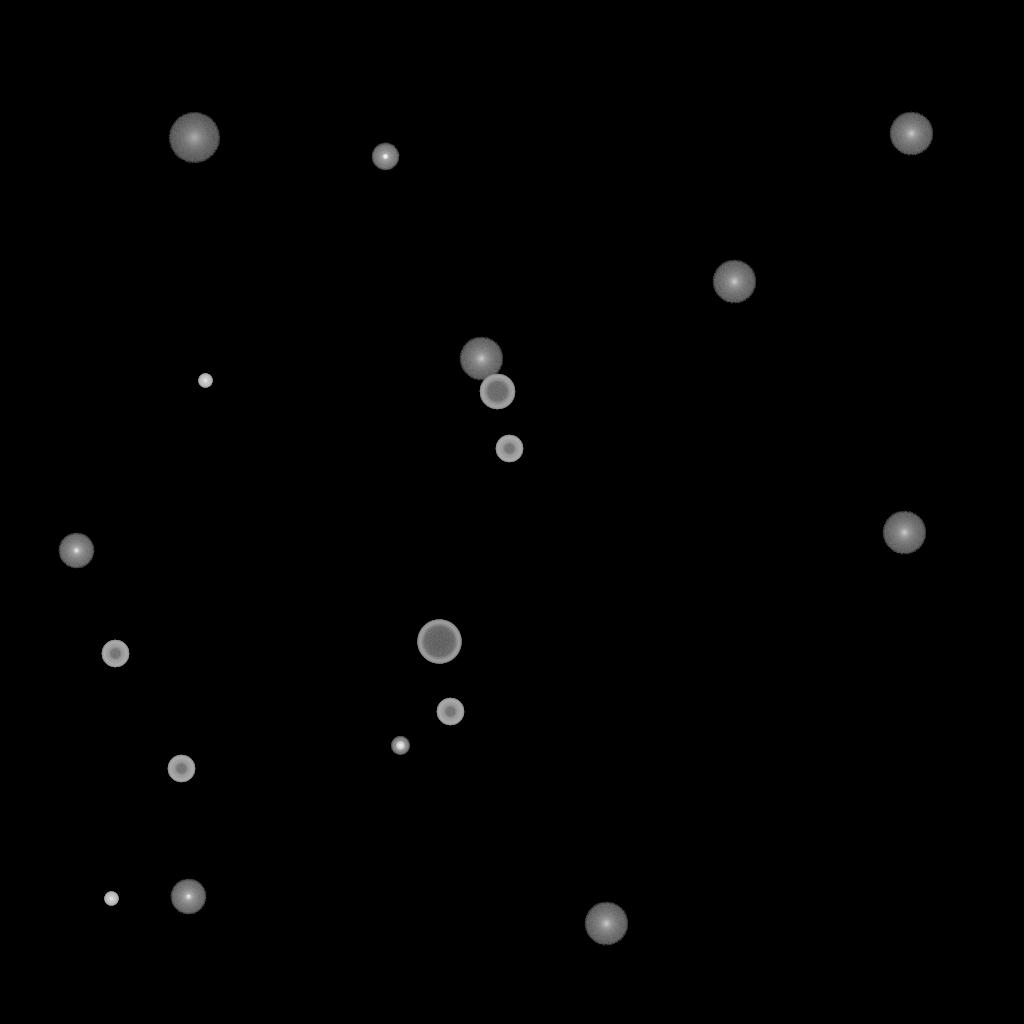depth:-10: (371, 143, 399, 171)
depth:-20: (391, 737, 409, 755)
depth:-30: (198, 374, 212, 388), (104, 892, 118, 906)
depth:-50: (436, 698, 464, 726), (167, 755, 195, 783), (495, 435, 523, 463), (101, 640, 129, 668)
depth:-60: (479, 374, 515, 410)
depth:-70: (417, 620, 461, 664)
depth:0: (170, 879, 206, 915), (58, 533, 94, 569)
depth:10: (584, 902, 628, 946), (889, 112, 933, 156), (882, 511, 926, 555), (712, 260, 756, 304), (459, 337, 503, 381)
depth:20: (168, 113, 220, 163)
